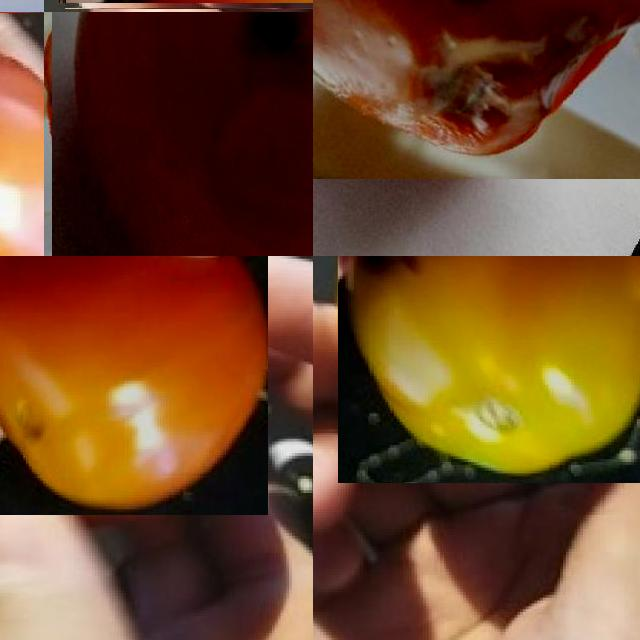Rotten Tomato: (0, 256, 268, 515), (338, 256, 640, 483), (44, 12, 313, 256), (313, 0, 640, 179)
